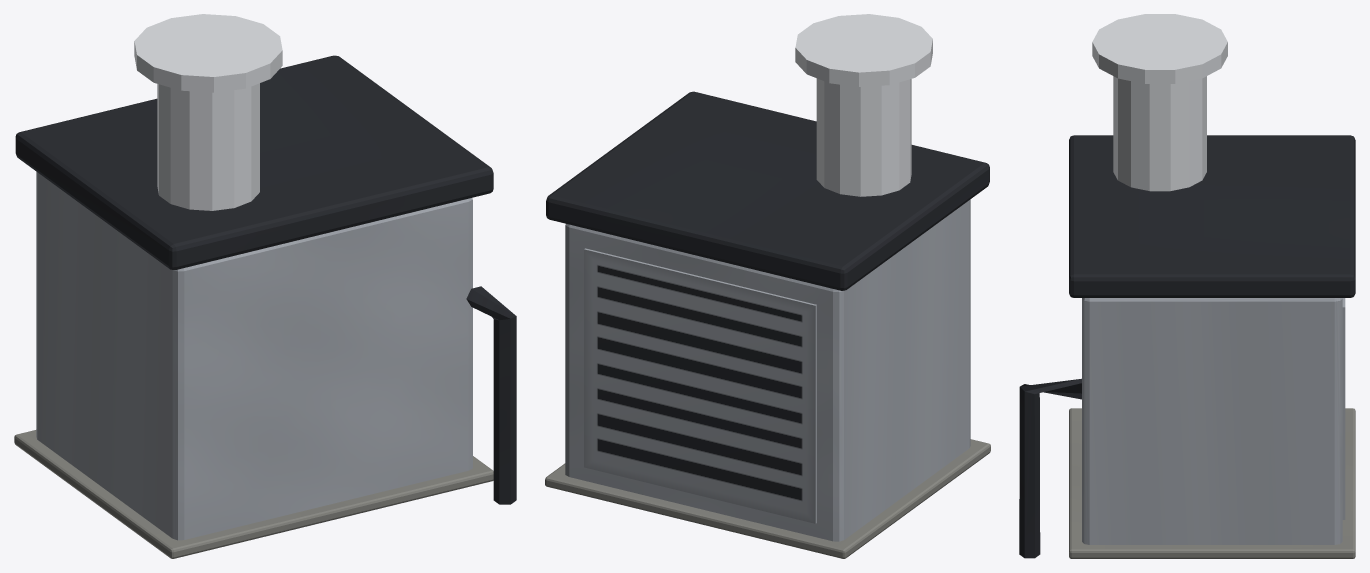
File: Vent.glb
The picture shows the model from 3 angles, left to right: view 1: azimuth 30°, elevation 25°; view 2: azimuth 150°, elevation 25°; view 3: azimuth 270°, elevation 25°; orthographic projection. The views are drawn at different scales.
Visible parts, largest first — view 1: Vent.001; view 2: Vent.001; view 3: Vent.001.
Part boxes in pixels (x1,y1,x2,y2): Vent.001: (14, 14, 516, 558); Vent.001: (545, 14, 990, 558); Vent.001: (1019, 14, 1355, 558).
Bounding box in the file's own units: 1.3 × 1.75 × 1.29.
Materials: 2 (1 with a texture image).
